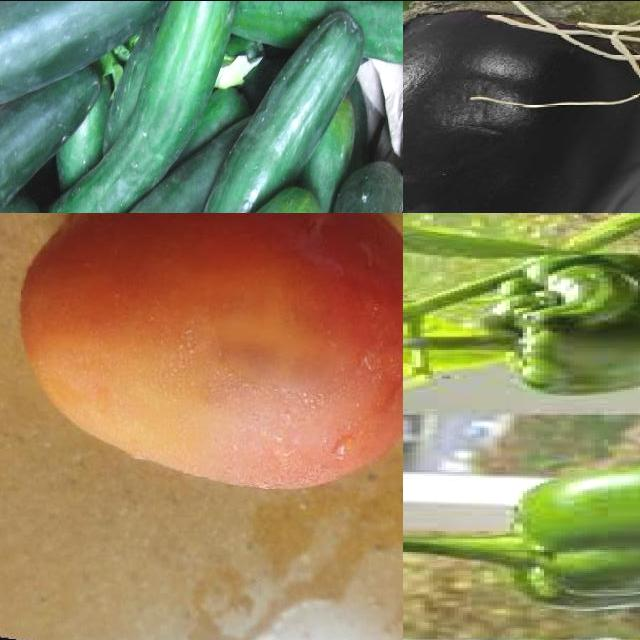bell_pepper: (463, 248, 640, 395), (491, 438, 640, 612)
cucumber: (46, 1, 236, 213), (178, 7, 368, 213), (1, 1, 182, 116), (42, 113, 247, 213), (1, 56, 107, 213), (229, 1, 404, 65)
eggplant: (404, 1, 640, 213)
tomato: (1, 213, 404, 513)
